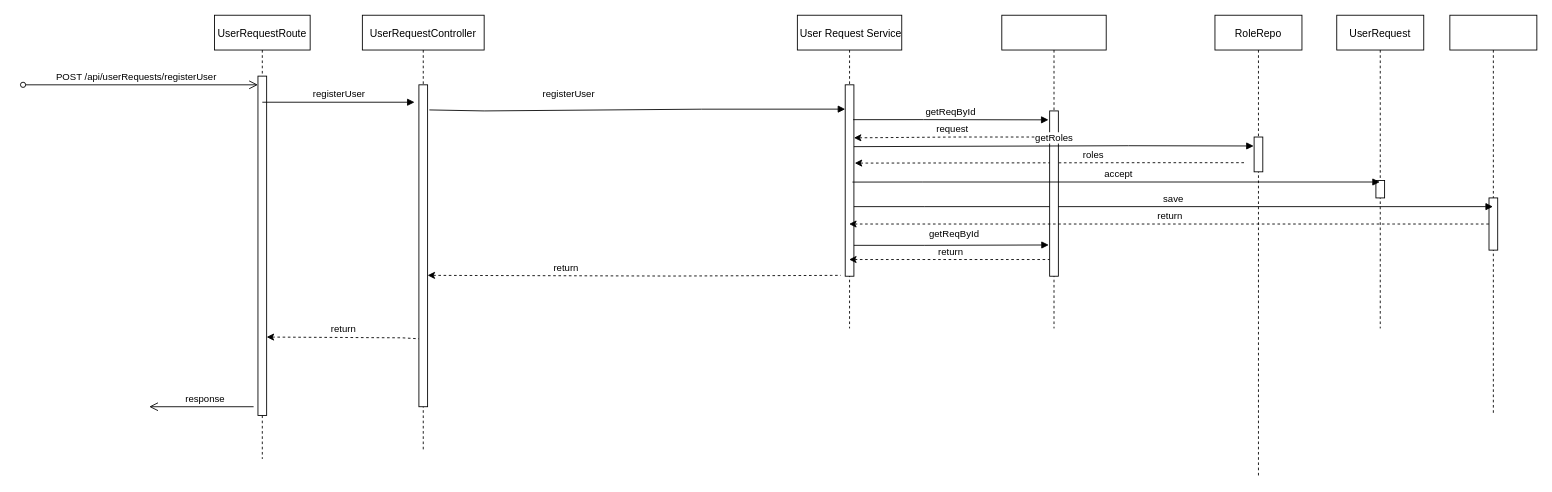
The diagram is 1552 pixels wide and 492 high, and some of its shapes have lost their labels. The shapes that lost their labels are listed below. From the top down, each one's centre as x and y in pixels, then its label:
(1053,171): UserRequestRepo
(1493,214): User Repo
